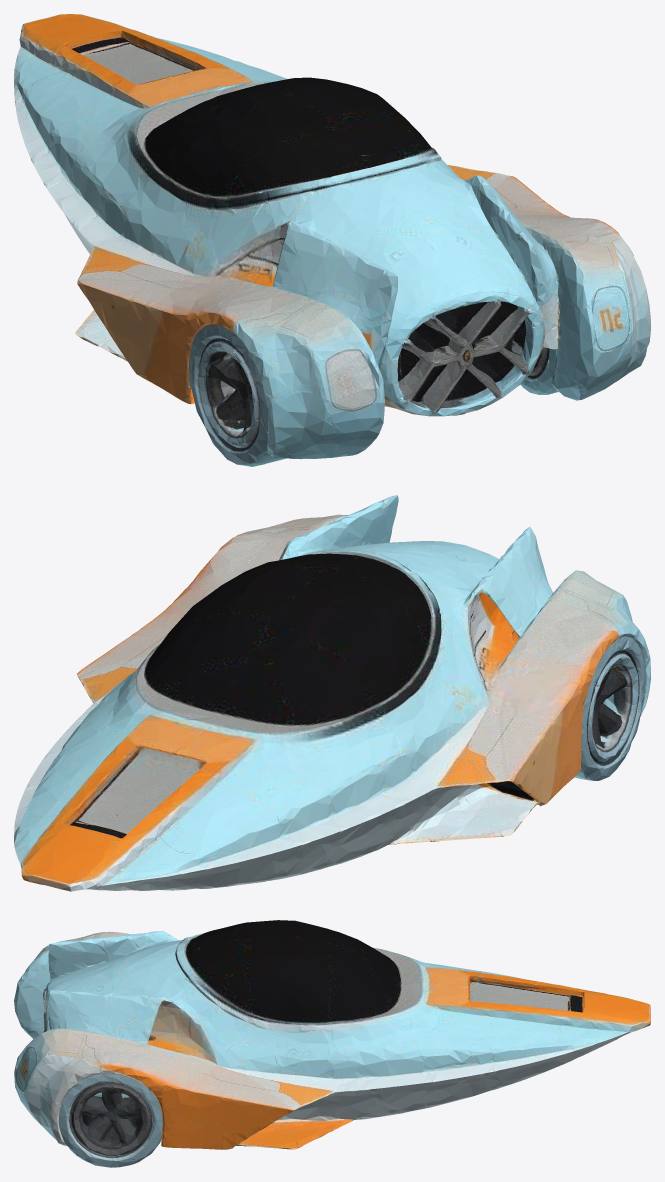
File: aero_md.glb
3 views of the same model, one above another, from view 1: azimuth 30°, elevation 25°; view 2: azimuth 150°, elevation 25°; view 3: azimuth 270°, elevation 25° (orthographic). The views are drawn at different scales.
Parts seen in each view (by area): view 1: geometry_0; view 2: geometry_0; view 3: geometry_0.
Part boxes in pixels (left/top/right/bottom): geometry_0: left=14, top=14, right=650, bottom=466; geometry_0: left=14, top=495, right=650, bottom=891; geometry_0: left=14, top=920, right=650, bottom=1167.
Bounding box in the file's own units: 5.12 × 2.57 × 9.
1 material, 1 textured.
